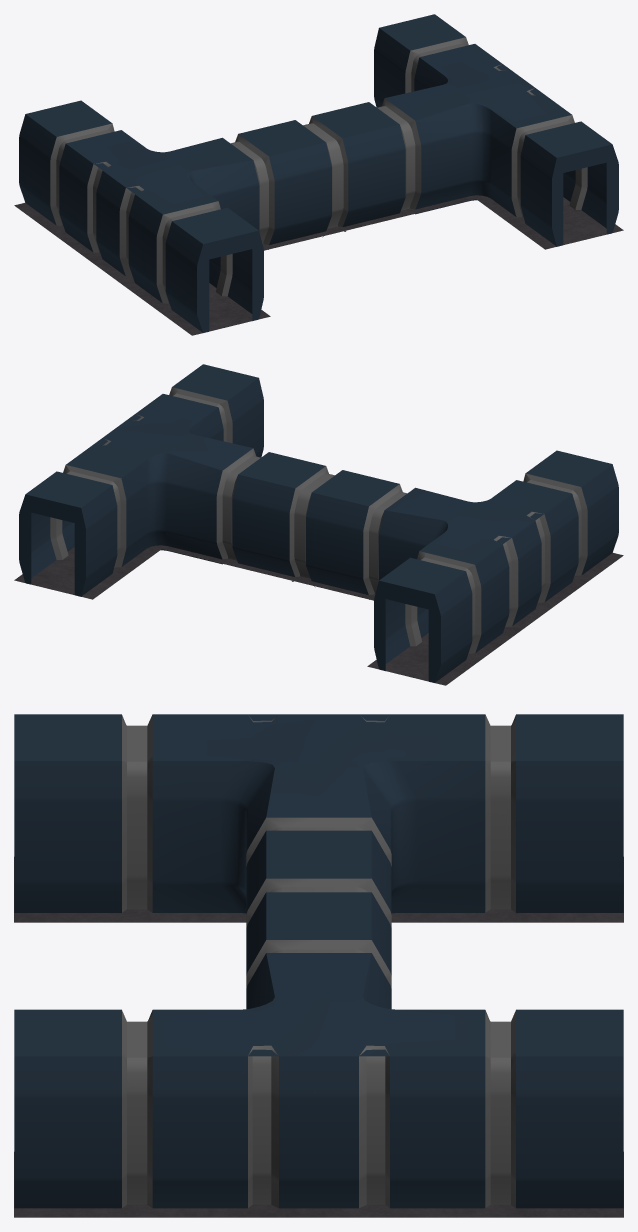
The model's file is RS_corridor 1.fbx.
3 renders of one model, top to bottom at view 1: azimuth 30°, elevation 25°; view 2: azimuth 150°, elevation 25°; view 3: azimuth 270°, elevation 25°, orthographic. The views are drawn at different scales.
Parts seen in each view (by area): view 1: RS_corridor; view 2: RS_corridor; view 3: RS_corridor.
Boxes of the visible parts, x1,y1,x2,y2 form: RS_corridor: (14, 14, 623, 335); RS_corridor: (14, 364, 623, 685); RS_corridor: (14, 714, 623, 1217).
Bounding box in the file's own units: 1258 × 268 × 899.
